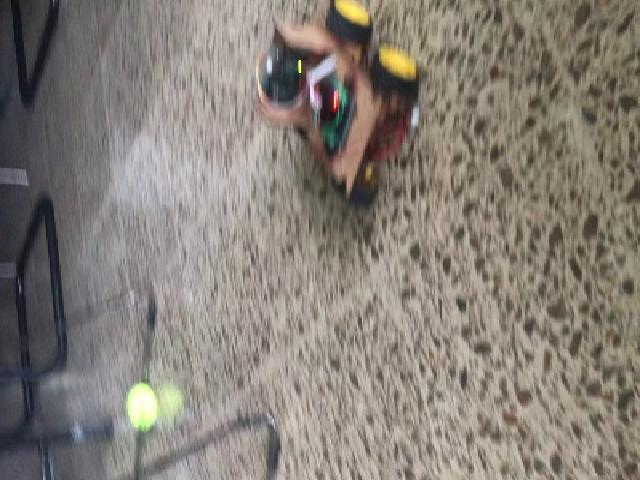Ball: (123, 383, 158, 430)
Robot: (254, 0, 422, 204)
